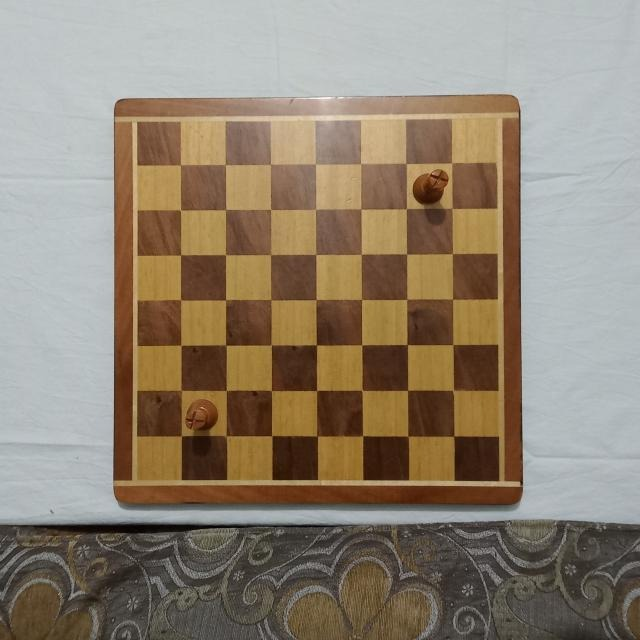white-rook: (413, 169, 449, 207), (184, 396, 220, 431)
